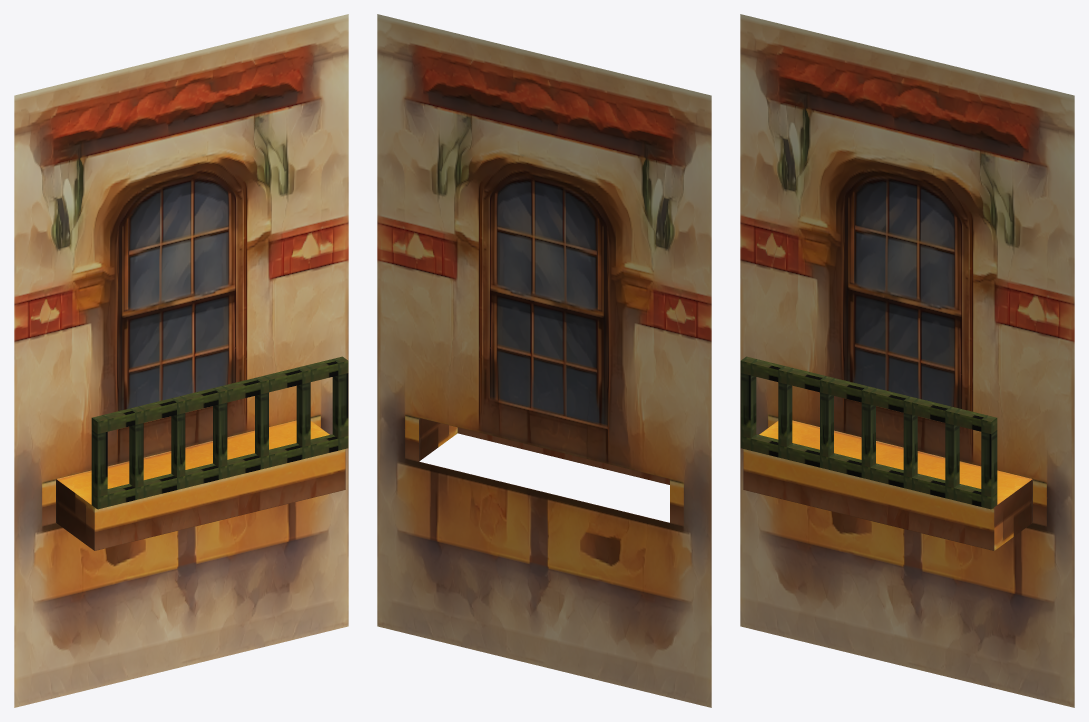
Rendered from SPN_U_Bay2A.fbx.
3 renders of one model, left to right at view 1: azimuth 30°, elevation 25°; view 2: azimuth 150°, elevation 25°; view 3: azimuth 330°, elevation 25°, orthographic.
Visible parts, largest first — view 1: SPN_U_Bay2A; view 2: SPN_U_Bay2A; view 3: SPN_U_Bay2A.
Boxes of the visible parts, <box> form: SPN_U_Bay2A: <box>14,14,348,707</box>; SPN_U_Bay2A: <box>377,14,711,707</box>; SPN_U_Bay2A: <box>740,14,1074,707</box>.
Size of the model in its own units: 2 by 0.43 by 3.5.
1 material, 1 textured.
